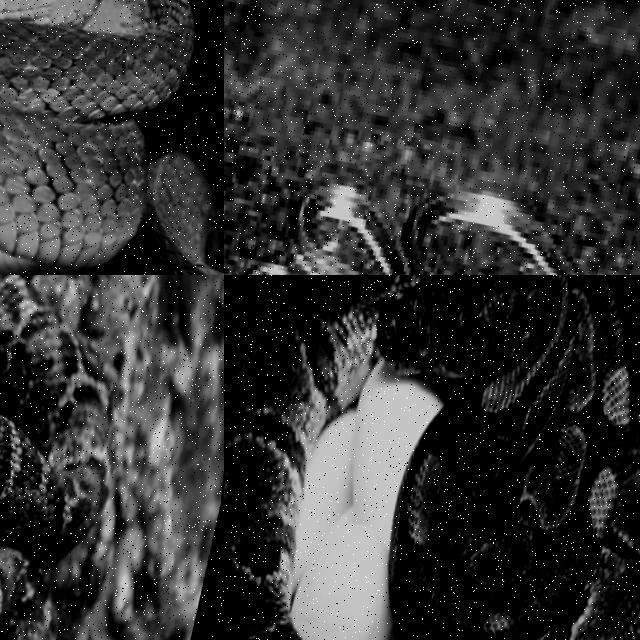Calliophis intestinalis: (288, 182, 590, 274)
Ovophis monticola: (0, 275, 112, 639)
Python bivittatus: (224, 275, 639, 639)
Trimeresurus macrops: (0, 0, 223, 274)
